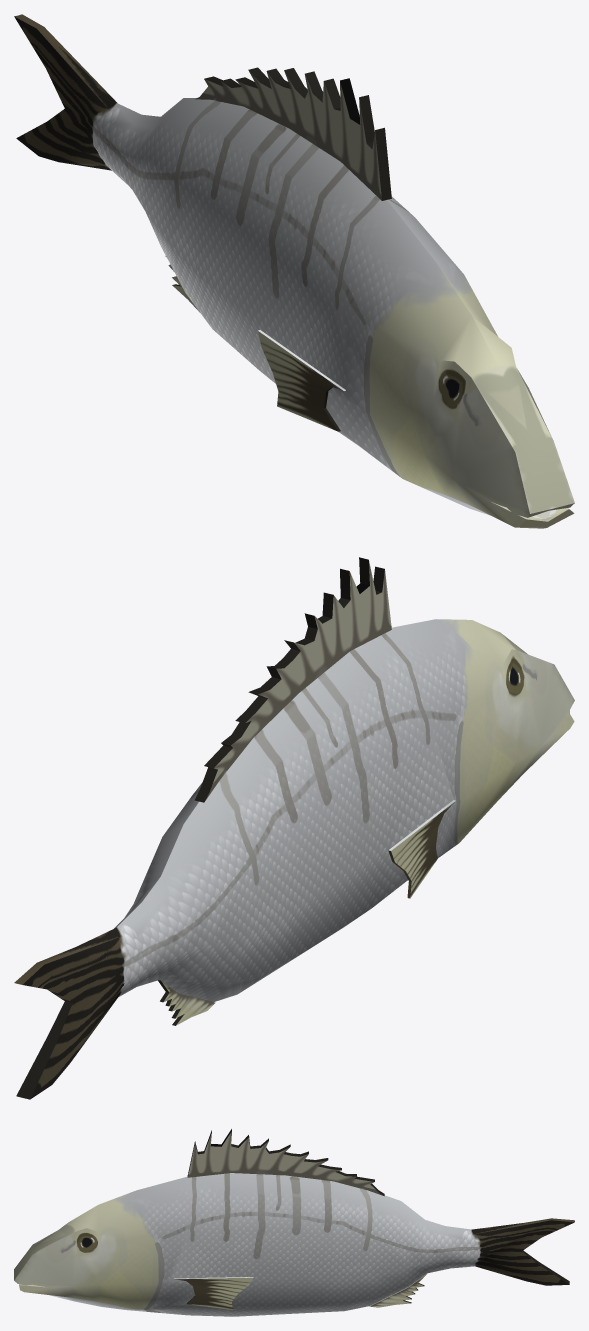
Rendered from Lithognathus mormyrus.fbx.
3 renders of one model, top to bottom at view 1: azimuth 30°, elevation 25°; view 2: azimuth 150°, elevation 25°; view 3: azimuth 270°, elevation 25°, orthographic. The views are drawn at different scales.
Visible parts, largest first — view 1: Herrera; view 2: Herrera; view 3: Herrera.
Part boxes in pixels (bbox=[...]): Herrera: bbox=[14, 14, 574, 528]; Herrera: bbox=[14, 557, 574, 1099]; Herrera: bbox=[14, 1129, 574, 1316].
Bounding box in the file's own units: 59.07 × 151 × 410.
Materials: 1 (1 with a texture image).
